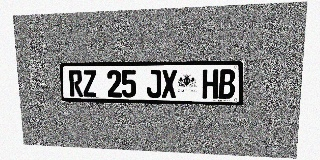2: (107, 70, 122, 97)
5: (121, 70, 136, 98)
B: (218, 69, 235, 99)
H: (202, 69, 218, 99)
J: (146, 70, 161, 98)
R: (69, 70, 83, 97)
X: (162, 70, 177, 98)
Z: (82, 70, 97, 97)
